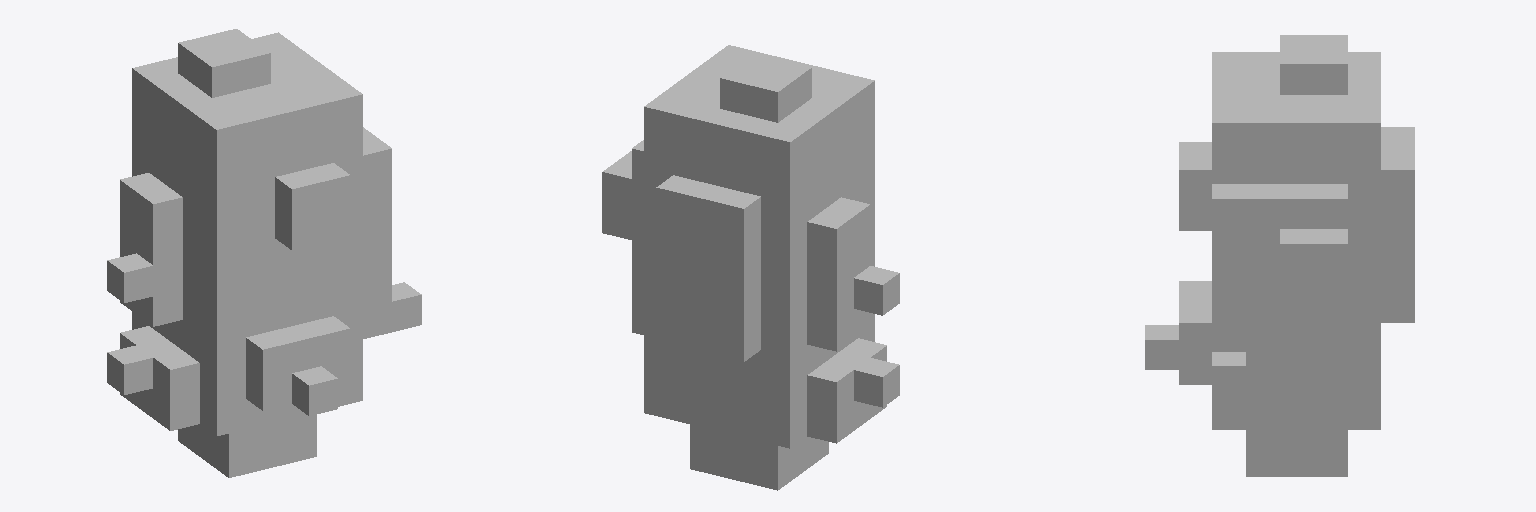
The model's file is Tree2.obj.
3 views of the same model, side by side, from view 1: azimuth 30°, elevation 25°; view 2: azimuth 150°, elevation 25°; view 3: azimuth 270°, elevation 25° (orthographic).
Parts seen in each view (by area): view 1: Tree2; view 2: Tree2; view 3: Tree2.
Part boxes in pixels (left/top/right/bottom): Tree2: left=107, top=29, right=421, bottom=477; Tree2: left=602, top=45, right=899, bottom=490; Tree2: left=1145, top=35, right=1414, bottom=476.
Size of the model in its own units: 9 by 13 by 8.